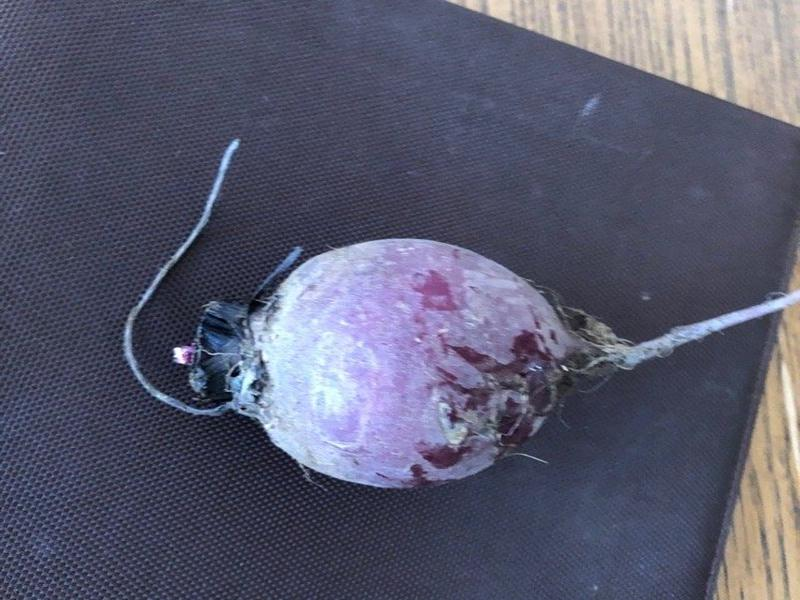Beet: (122, 137, 800, 490)
